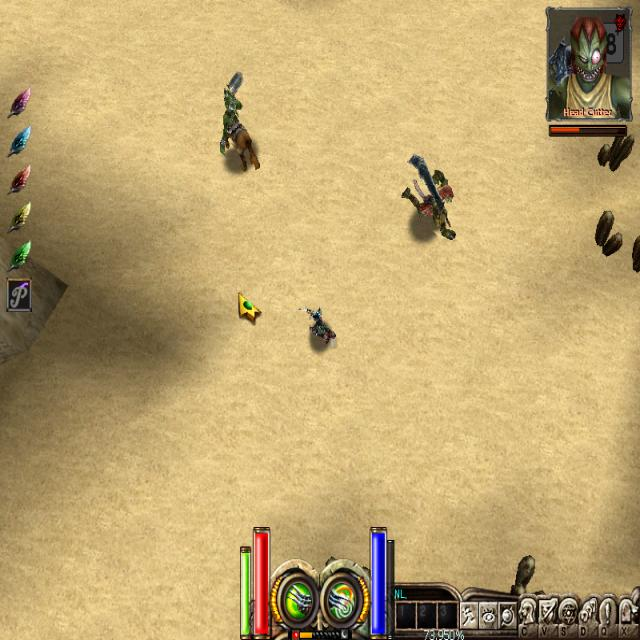monster: (369, 147, 483, 257), (194, 60, 284, 194)
